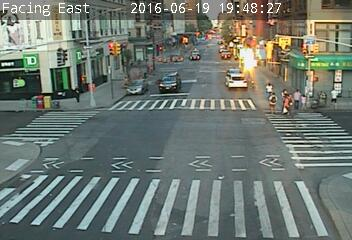neg: (66, 95, 92, 130), (274, 158, 300, 193), (167, 144, 191, 177), (82, 58, 104, 88), (220, 152, 242, 181), (124, 141, 142, 166), (162, 60, 180, 84), (215, 80, 231, 102), (216, 31, 232, 52), (253, 40, 268, 61)
pos: (289, 86, 305, 107), (267, 89, 282, 109), (299, 93, 313, 111)
